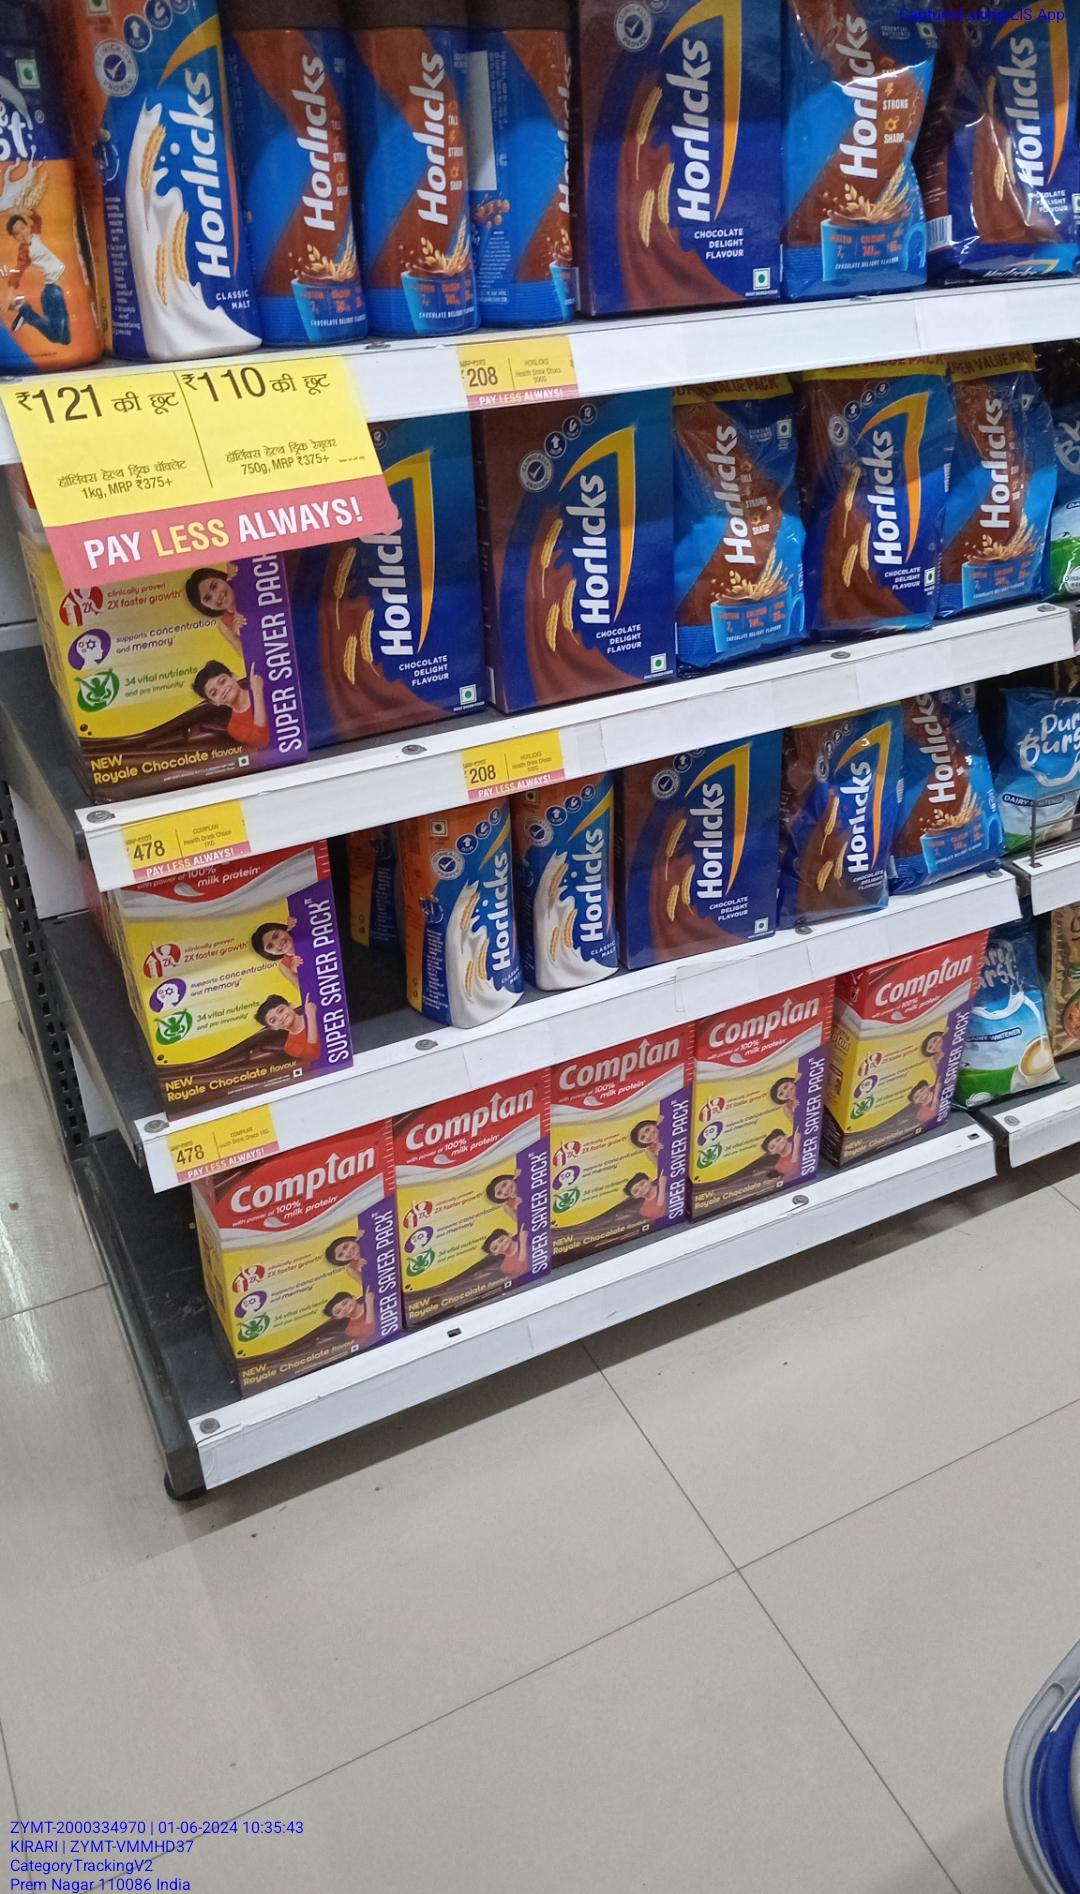COMPLAN_CHOCOLATE_1_KG_PACK: (137, 856, 346, 1103), (223, 1154, 392, 1388), (398, 1103, 550, 1324), (549, 1045, 681, 1260), (695, 1003, 826, 1212), (861, 948, 979, 1162)
HORLICK_CHOCOLATE_1_KG_PACK: (494, 402, 671, 695)
HORLICK_CHOCOLATE_200_G_JAR: (246, 3, 368, 347), (375, 3, 481, 336), (496, 0, 579, 332)
HORLICK_CHOCOLATE_500_G_PACK: (588, 0, 779, 307), (626, 752, 781, 968)
HORLICK_CHOCOLATE_750_G_POUCH: (785, 0, 937, 299), (946, 3, 1080, 284), (681, 380, 803, 663), (815, 364, 938, 636), (951, 349, 1060, 613), (787, 719, 891, 920), (903, 699, 1002, 886)
HORLICK_CLASSIC_MALT_500_G_JAR: (91, 0, 237, 363), (522, 777, 615, 990), (440, 803, 518, 1028)
